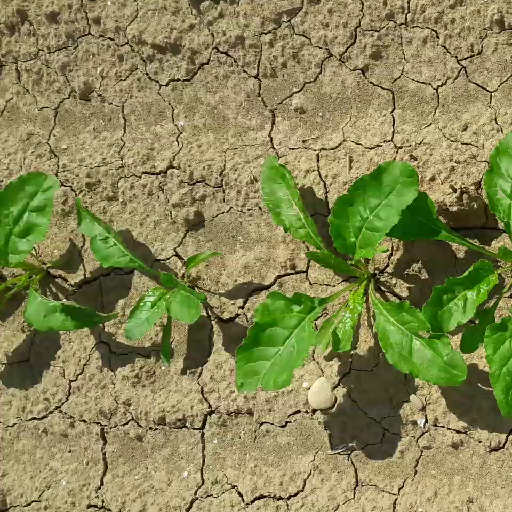sugarbeet: (232, 151, 471, 396), (365, 111, 510, 424), (70, 196, 226, 374), (1, 170, 120, 334)
